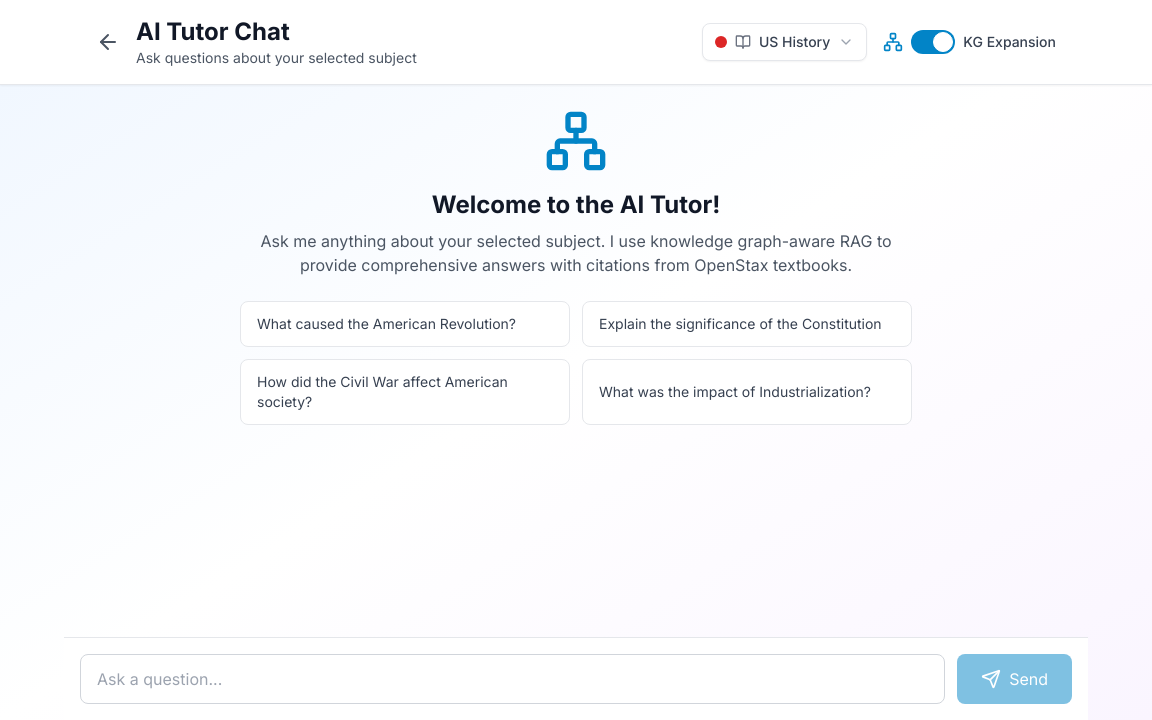
Test case: ChatPage › Sending Messages › disables input while loading
Type "My question" into the field with placeholder "Ask a question..." at (513, 679), box left=80, top=654, right=945, bottom=704
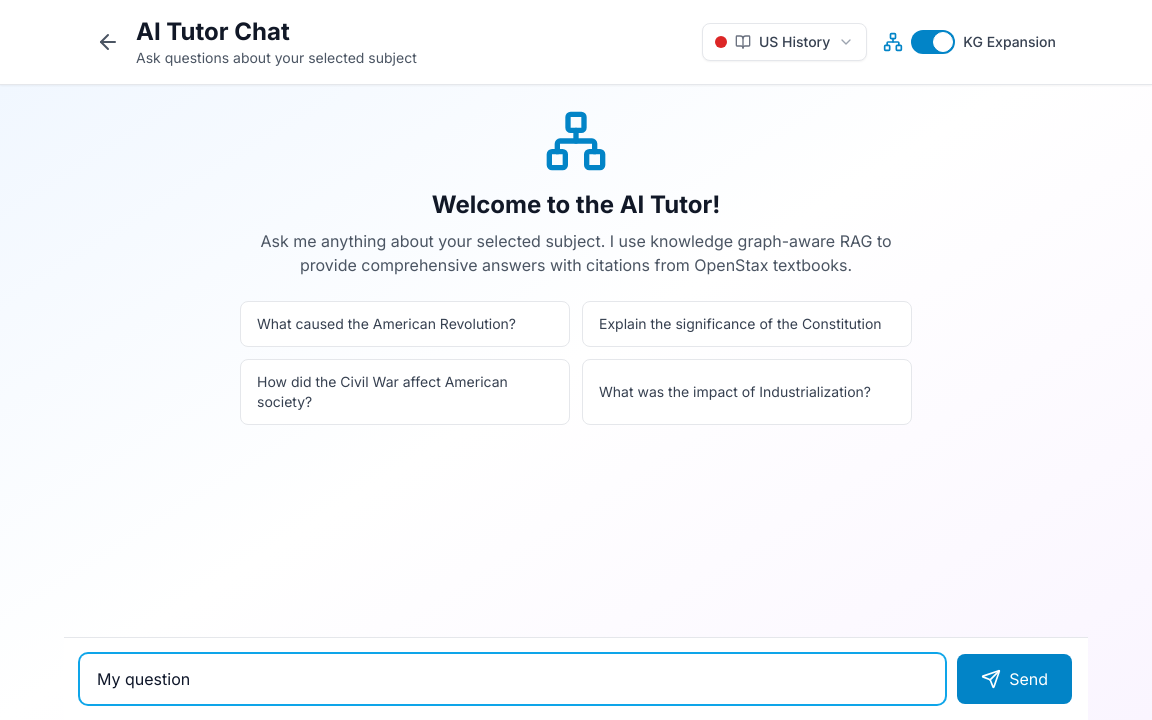
Submit the form with placeholder "Ask a question", box left=80, top=654, right=1072, bottom=704
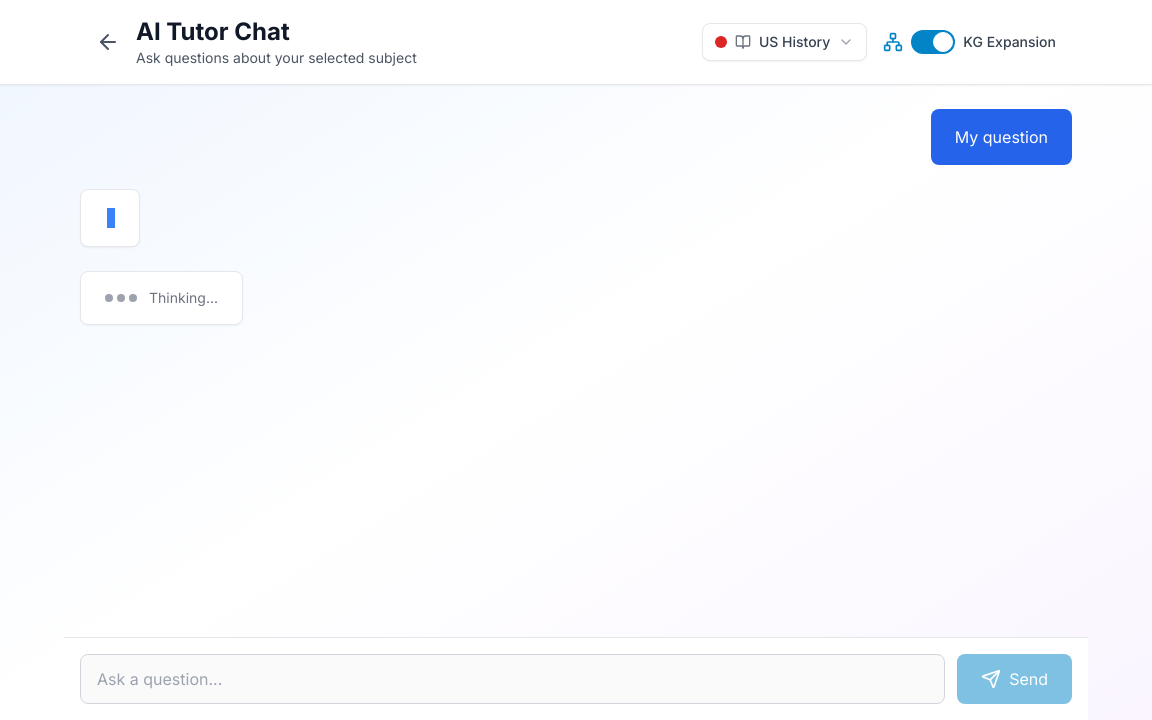
Expected: the field with placeholder "Ask a question..." is disabled, left=80, top=654, right=945, bottom=704
